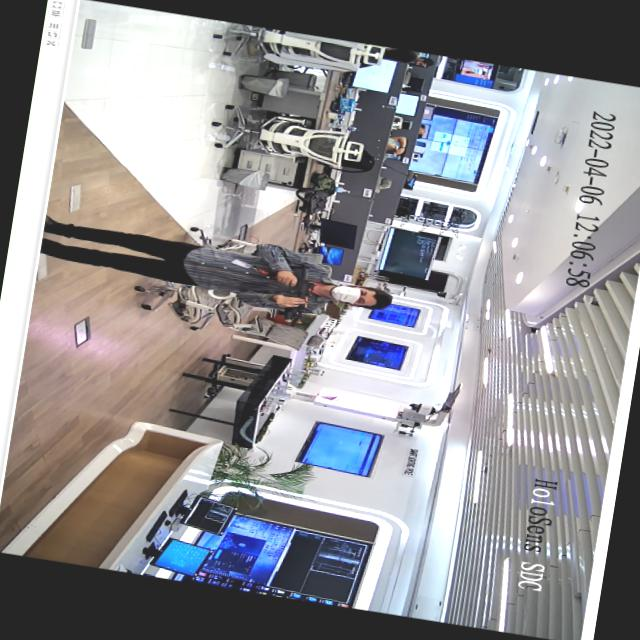long weapon: (260, 256, 322, 328)
